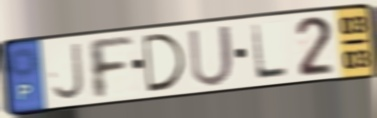2: (294, 14, 336, 79)
D: (140, 31, 189, 95)
F: (84, 35, 136, 102)
J: (50, 41, 87, 103)
L: (249, 22, 290, 82)
U: (186, 22, 236, 89)
